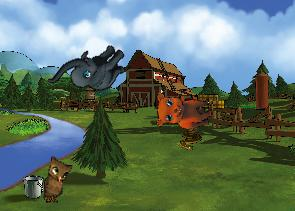bear: (151, 84, 215, 134)
elephant: (46, 25, 133, 114)
owl: (43, 156, 73, 204)
